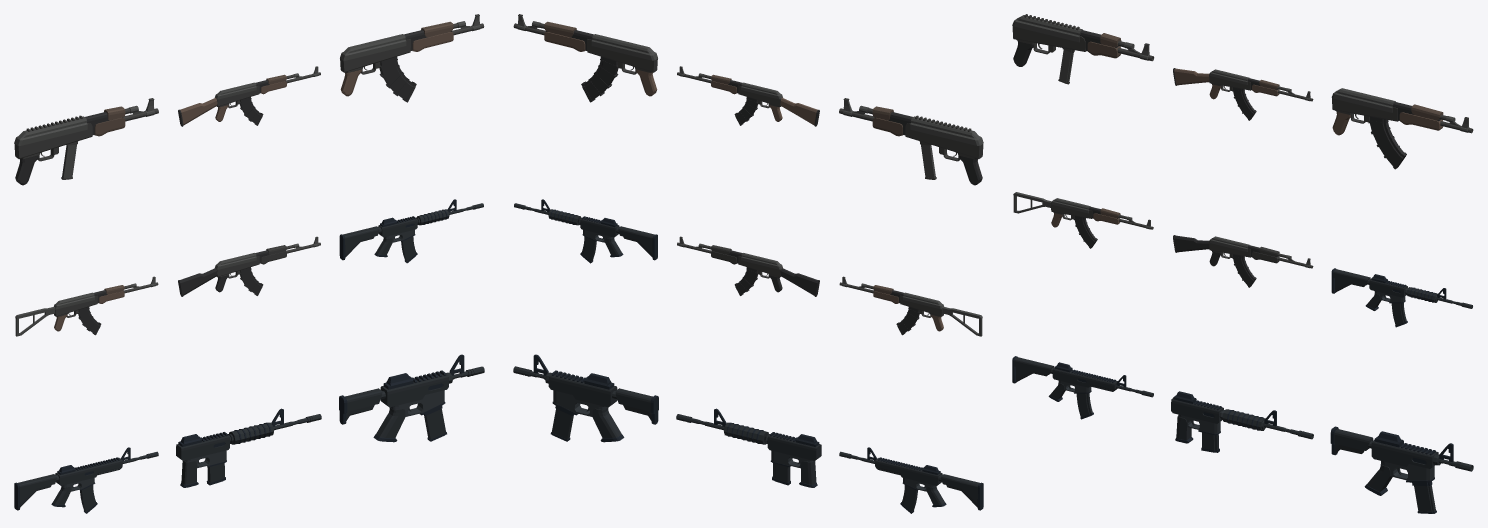
3 views of the same model, side by side, from view 1: azimuth 30°, elevation 25°; view 2: azimuth 150°, elevation 25°; view 3: azimuth 330°, elevation 25° (orthographic).
Parts seen in each view (by area): view 1: m8, m2, m0, m7, m6, m5, m4, m1, m3; view 2: m8, m2, m0, m7, m6, m5, m4, m1, m3; view 3: m8, m2, m0, m7, m6, m5, m1, m4, m3.
Part boxes in pixels (x1,y1,x2,y2): m8: (339, 354, 484, 442); m2: (340, 14, 484, 102); m0: (14, 98, 158, 185); m7: (176, 408, 321, 487); m6: (14, 447, 158, 513); m5: (339, 199, 483, 263); m4: (178, 236, 320, 296); m1: (178, 66, 320, 126); m3: (15, 276, 158, 336); m8: (513, 354, 658, 442); m2: (513, 14, 657, 102); m0: (839, 98, 983, 185); m7: (676, 408, 821, 487); m6: (839, 447, 983, 513); m5: (514, 199, 657, 263); m4: (677, 236, 819, 296); m1: (677, 66, 819, 126); m3: (839, 276, 982, 336); m8: (1330, 426, 1473, 513); m2: (1331, 88, 1473, 169); m0: (1012, 14, 1154, 84); m7: (1171, 391, 1313, 452); m6: (1012, 356, 1153, 419); m5: (1331, 268, 1472, 327); m1: (1173, 68, 1313, 120); m4: (1173, 235, 1313, 287); m3: (1013, 192, 1153, 248).
Bounding box in the file's own units: 3.3 × 2.8 × 0.0923.
